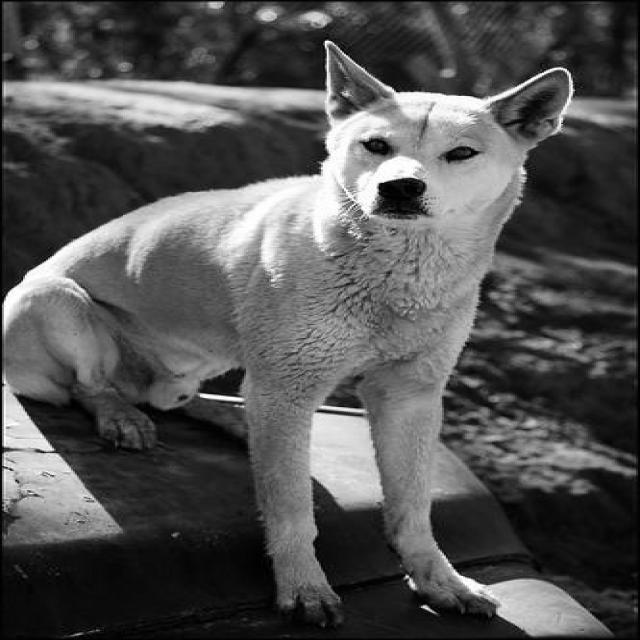sitting: (0, 37, 585, 630)
